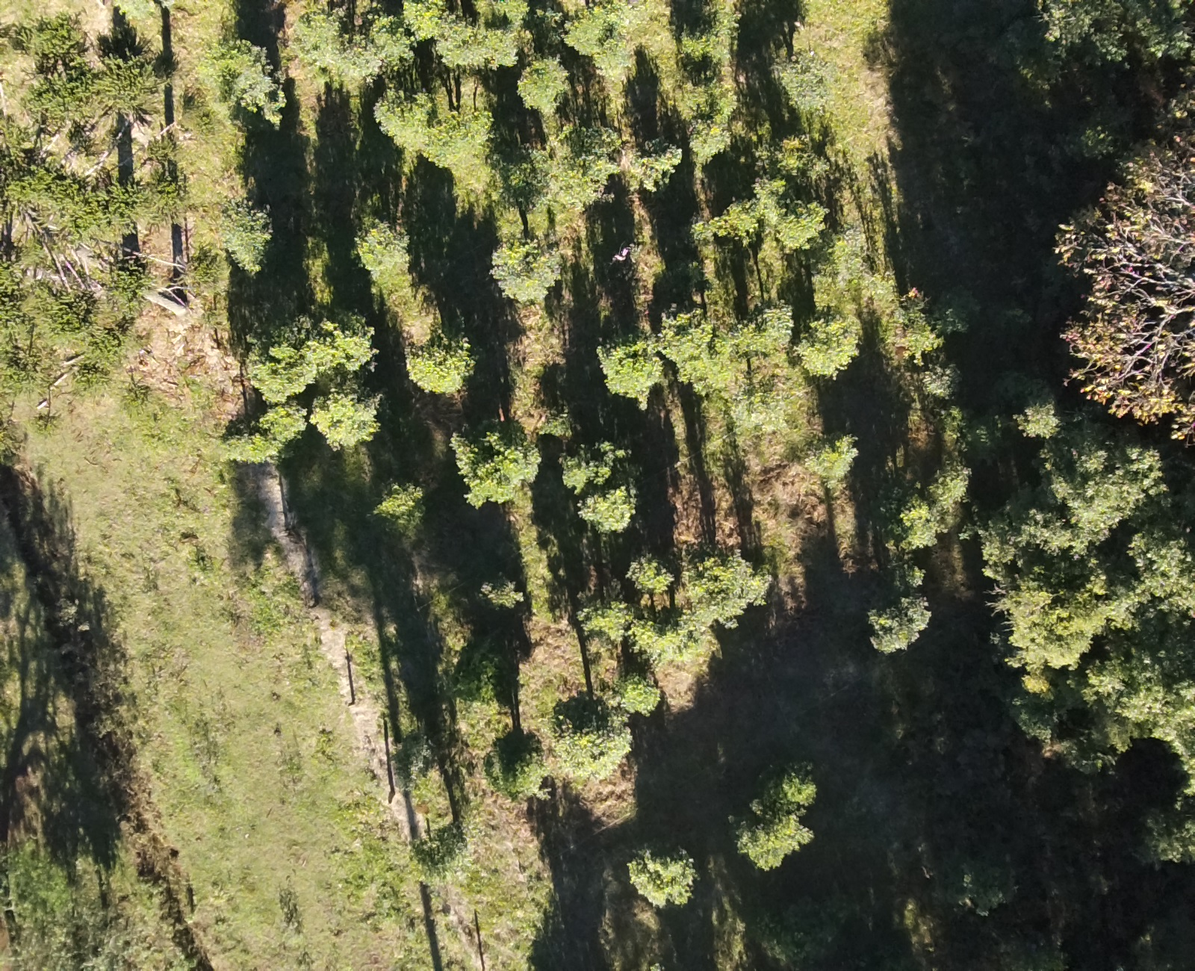erva: (443, 425, 537, 512), (485, 226, 572, 307), (544, 700, 625, 779), (403, 329, 497, 395), (297, 308, 382, 379), (688, 548, 774, 618), (624, 837, 701, 914), (400, 808, 480, 879), (479, 728, 548, 808), (615, 605, 708, 664), (789, 315, 869, 383), (724, 301, 795, 377), (865, 584, 936, 659), (592, 332, 661, 409), (547, 129, 616, 206), (418, 103, 495, 171), (730, 811, 811, 873), (314, 382, 388, 448), (241, 337, 305, 408), (287, 6, 356, 68), (367, 470, 429, 538), (643, 298, 705, 366), (721, 385, 800, 438), (578, 475, 651, 530), (373, 82, 435, 145), (574, 577, 628, 648), (620, 542, 682, 601), (552, 432, 615, 490), (343, 217, 409, 272), (794, 427, 866, 475), (682, 108, 736, 170), (214, 424, 277, 477), (511, 57, 571, 112), (770, 196, 833, 246), (361, 16, 418, 71), (606, 660, 657, 721), (625, 137, 680, 193), (429, 32, 494, 78), (766, 757, 816, 816), (338, 32, 381, 100), (244, 400, 310, 442), (395, 1, 455, 43), (471, 575, 527, 615), (554, 6, 600, 52), (669, 28, 713, 69), (592, 43, 643, 73), (492, 29, 524, 72)
